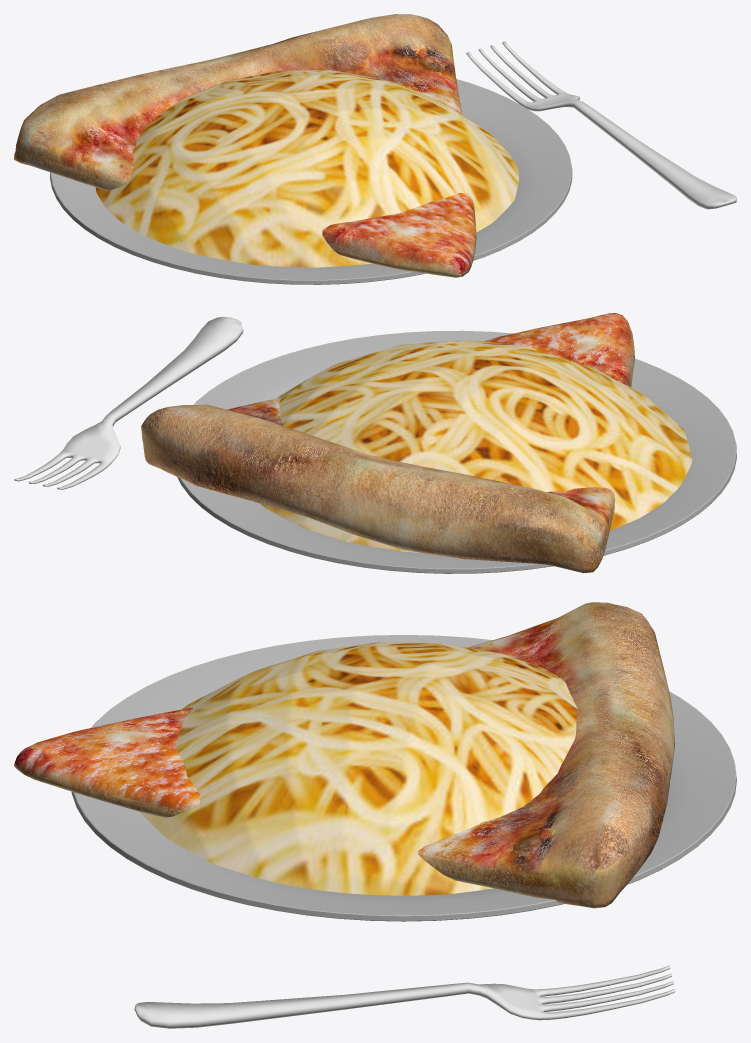
Rendered from PlateOfFood.fbx.
3 views of the same model, one above another, from view 1: azimuth 30°, elevation 25°; view 2: azimuth 150°, elevation 25°; view 3: azimuth 270°, elevation 25° (orthographic). The views are drawn at different scales.
Parts seen in each view (by area): view 1: Spaghetti, Pizza, Plate, lowpolyfork; view 2: Spaghetti, Pizza, Plate, lowpolyfork; view 3: Spaghetti, Pizza, Plate, lowpolyfork.
Boxes of the visible parts, box(x1,y1,x2,y2) form: Spaghetti: box(95, 70, 518, 267); Pizza: box(14, 14, 476, 277); Plate: box(50, 79, 572, 284); lowpolyfork: box(466, 41, 736, 209); Spaghetti: box(261, 340, 692, 552); Pizza: box(141, 313, 634, 573); Plate: box(177, 330, 736, 573); lowpolyfork: box(14, 316, 243, 489); Spaghetti: box(140, 642, 670, 895); Pizza: box(14, 602, 674, 908); Plate: box(71, 635, 736, 921); lowpolyfork: box(134, 965, 675, 1028).
Size of the model in its own units: 73.27 by 14.4 by 65.03.
